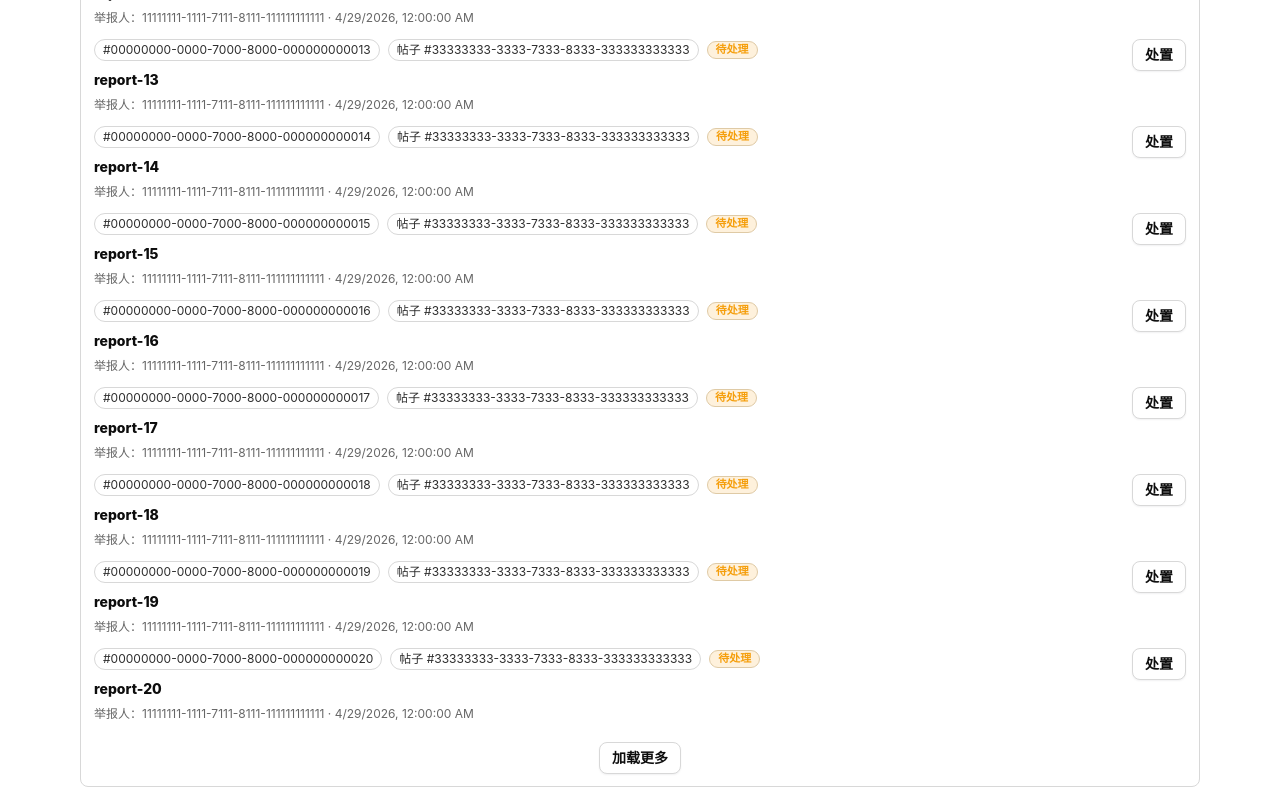
Test: ModerationView › dedupes page-shifted reports by id when a report flows between pages
(page scrolled)
What coordinates should you click on to do the following:
click the button "加载更多"
I would click on:
 (640, 758)
Its box is [599,742,681,774].
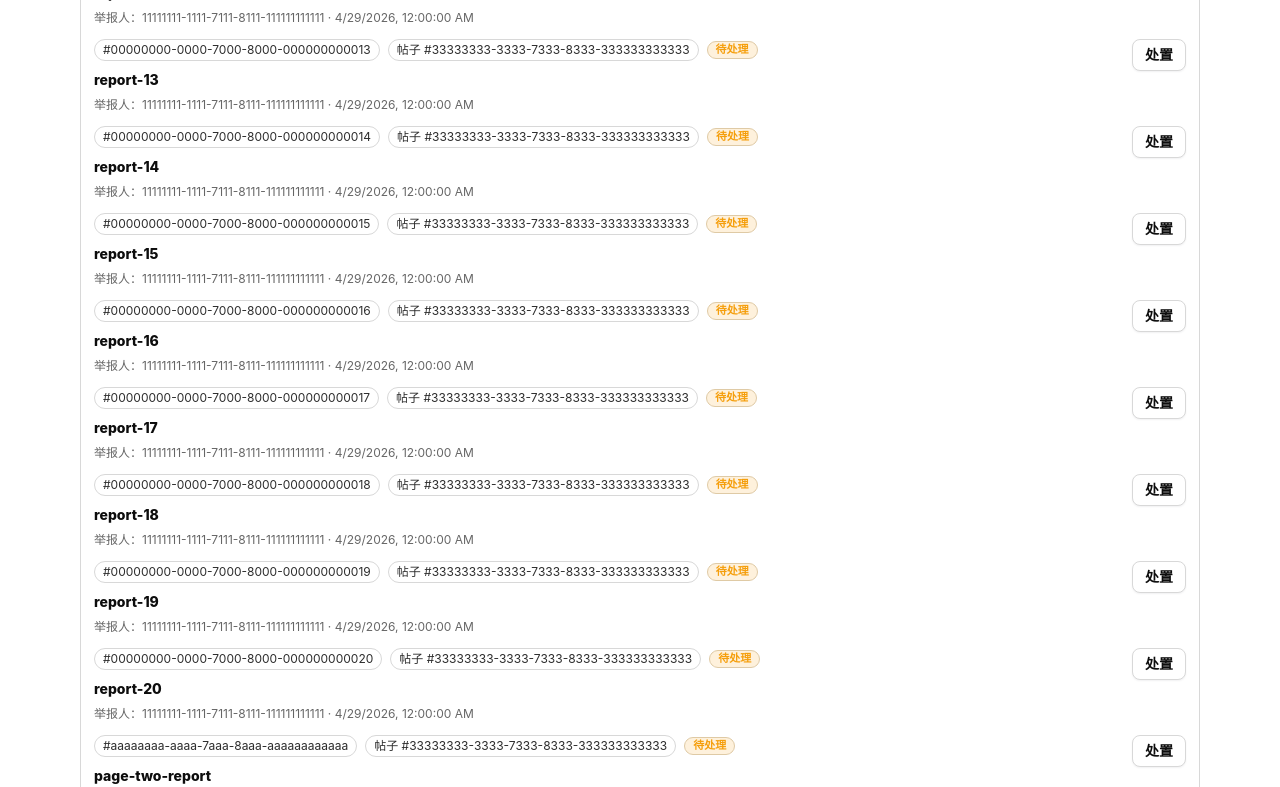
Expected: the text "report-20" is shown, [94,680,162,697]
Expected: the text "page-two-report" is shown, [94,767,211,784]
